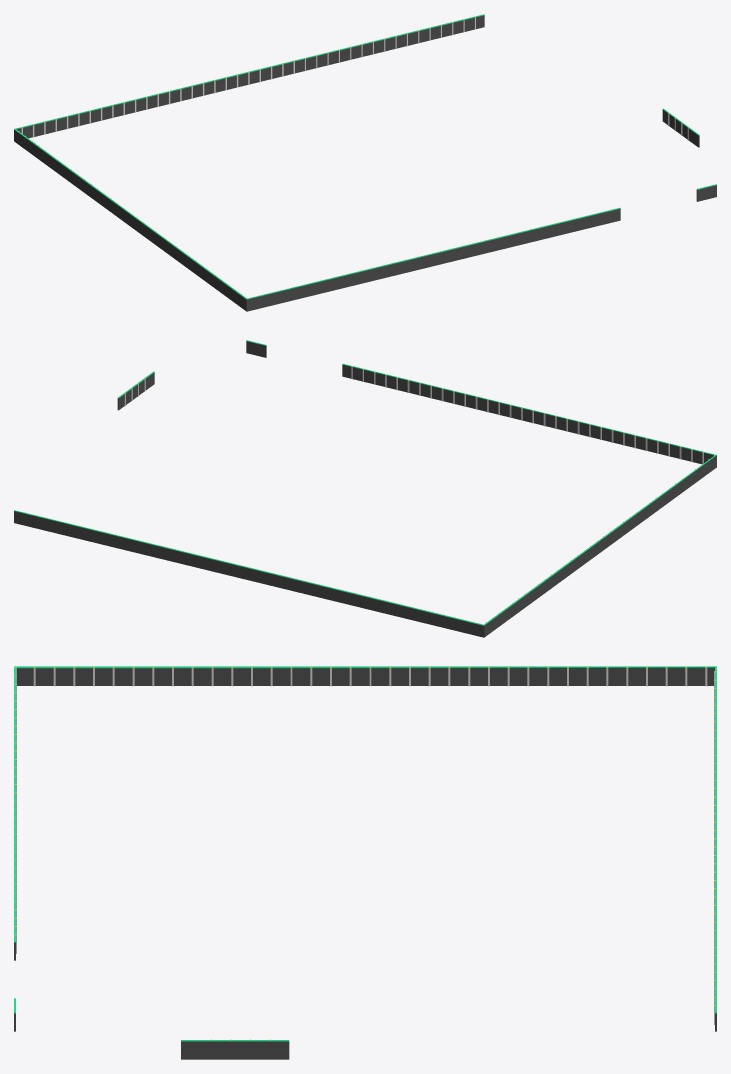
The model's file is fence.gltf.
The picture shows the model from 3 angles, top to bottom: view 1: azimuth 30°, elevation 25°; view 2: azimuth 150°, elevation 25°; view 3: azimuth 270°, elevation 25°; orthographic projection. The views are drawn at different scales.
Visible parts, largest first — view 1: fence-Mat3d66-10278655-2-69985, fence-Mat3d66-10278655-42-18108, fence-Mat3d66-10278655-3-31610; view 2: fence-Mat3d66-10278655-2-69985, fence-Mat3d66-10278655-42-18108, fence-Mat3d66-10278655-3-31610; view 3: fence-Mat3d66-10278655-2-69985, fence-Mat3d66-10278655-42-18108, fence-Mat3d66-10278655-3-31610.
Boxes of the visible parts, x1,y1,x2,y2 form: fence-Mat3d66-10278655-2-69985: [14, 15, 716, 311]; fence-Mat3d66-10278655-42-18108: [14, 14, 716, 299]; fence-Mat3d66-10278655-3-31610: [21, 18, 688, 140]; fence-Mat3d66-10278655-2-69985: [14, 341, 716, 637]; fence-Mat3d66-10278655-42-18108: [14, 340, 716, 625]; fence-Mat3d66-10278655-3-31610: [124, 367, 703, 463]; fence-Mat3d66-10278655-2-69985: [14, 668, 716, 1059]; fence-Mat3d66-10278655-42-18108: [14, 666, 716, 1041]; fence-Mat3d66-10278655-3-31610: [16, 668, 714, 1024].
Bounding box in the file's own units: 8970 × 210 × 7120.
